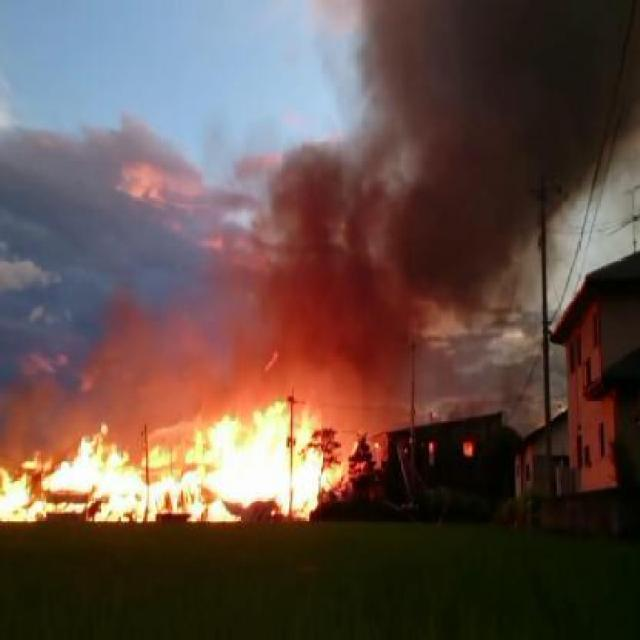Fire: (206, 398, 352, 524), (69, 431, 148, 518), (151, 472, 197, 520), (0, 470, 40, 516), (40, 465, 72, 490), (190, 430, 206, 468)
